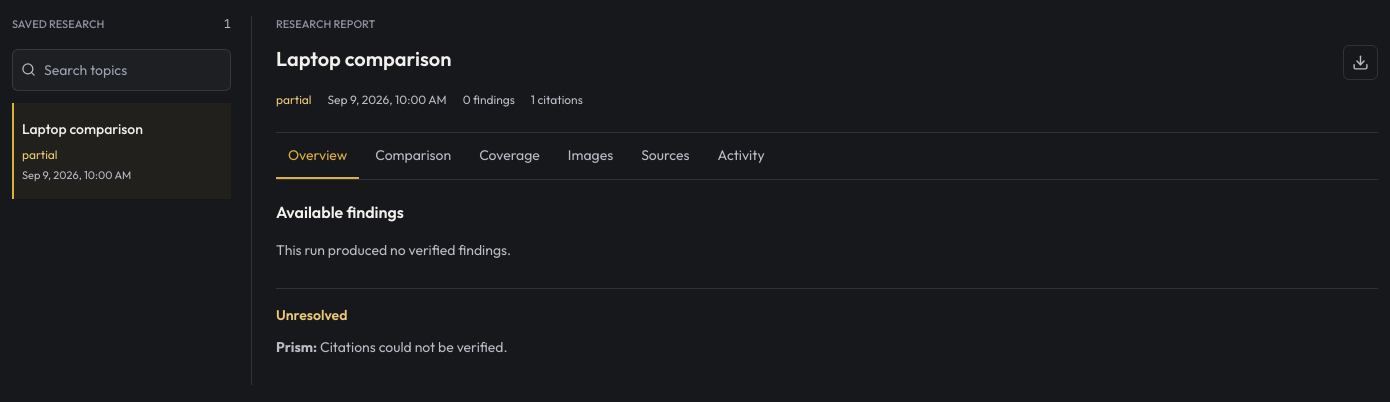
Test: saved research reports › shows no images instead of unrelated fallback candidates when findings are empty
Click the tab "Images".
click(590, 156)  # box [556,132,625,178]
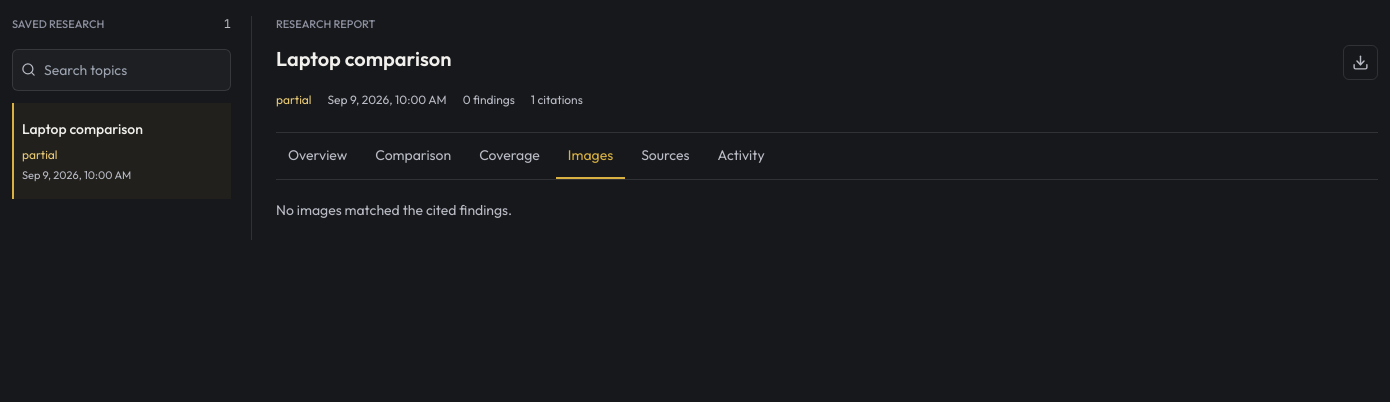
Now the text "No images matched the cited findings." is shown, box [276,200,512,218]
